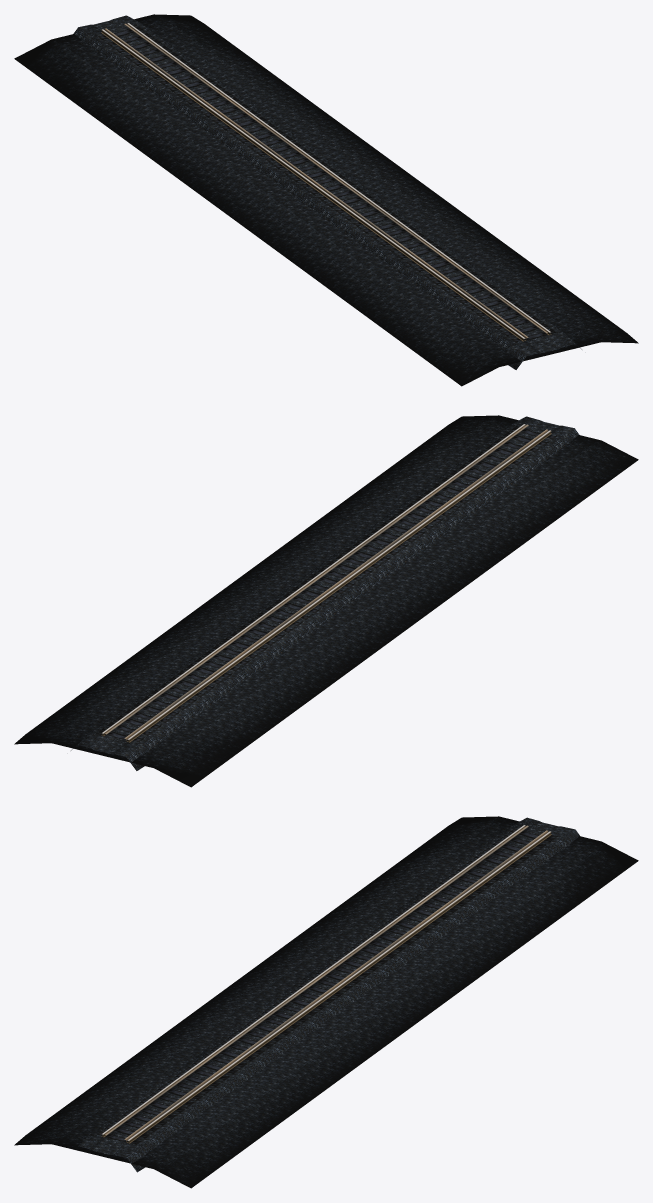
Rendered from SIN_1RAIL_100_JIMEN.glb.
3 views of the same model, one above another, from view 1: azimuth 30°, elevation 25°; view 2: azimuth 150°, elevation 25°; view 3: azimuth 330°, elevation 25° (orthographic).
Parts seen in each view (by area): view 1: obj1, R000_RG_R, R000_RG_L; view 2: obj1, R000_RG_R, R000_RG_L; view 3: obj1, R000_RG_L, R000_RG_R.
Boxes of the visible parts, x1=… form: obj1: x1=14, y1=14, x2=638, y2=386; R000_RG_R: x1=104, y1=28, x2=528, y2=339; R000_RG_L: x1=124, y1=23, x2=547, y2=333; obj1: x1=14, y1=415, x2=638, y2=787; R000_RG_R: x1=124, y1=429, x2=548, y2=740; R000_RG_L: x1=104, y1=424, x2=528, y2=735; obj1: x1=14, y1=816, x2=638, y2=1188; R000_RG_L: x1=124, y1=830, x2=548, y2=1141; R000_RG_R: x1=105, y1=825, x2=528, y2=1135.
Size of the model in its own units: 24.42 by 2.65 by 106.
Materials: 7 (6 with a texture image).
